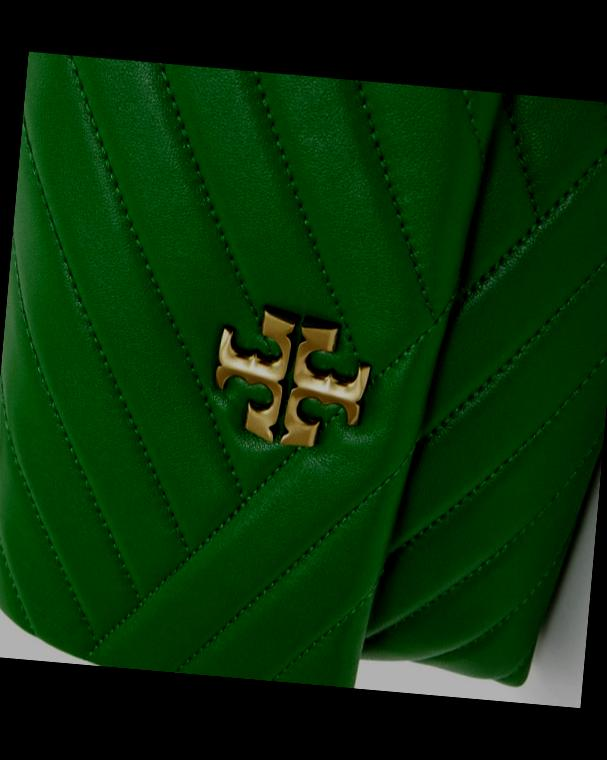TORY-BURCH: (209, 302, 374, 452)
